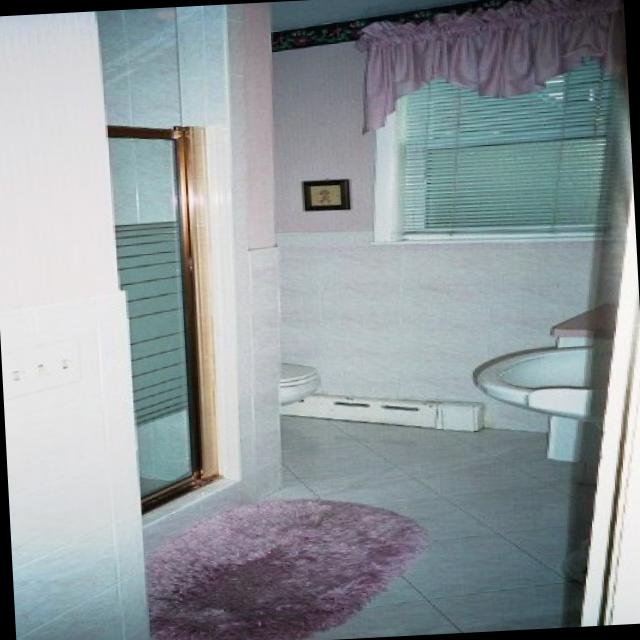2001: (403, 9, 622, 237)
ceiling beam: (275, 0, 453, 31)
closet: (548, 300, 612, 460)
curtain crop: (360, 0, 622, 130)
door opening: (577, 240, 637, 624)
floor -X: (142, 415, 615, 640)
picture crop: (304, 179, 353, 211)
rug -partially obscured-: (151, 496, 431, 640)
screen occluded: (110, 124, 217, 512)
wall clock: (273, 0, 640, 439), (0, 12, 152, 640), (139, 3, 283, 557), (606, 269, 640, 623), (104, 7, 187, 123)
washbasin of dentist: (479, 342, 612, 442)
wc: (286, 359, 323, 404)
